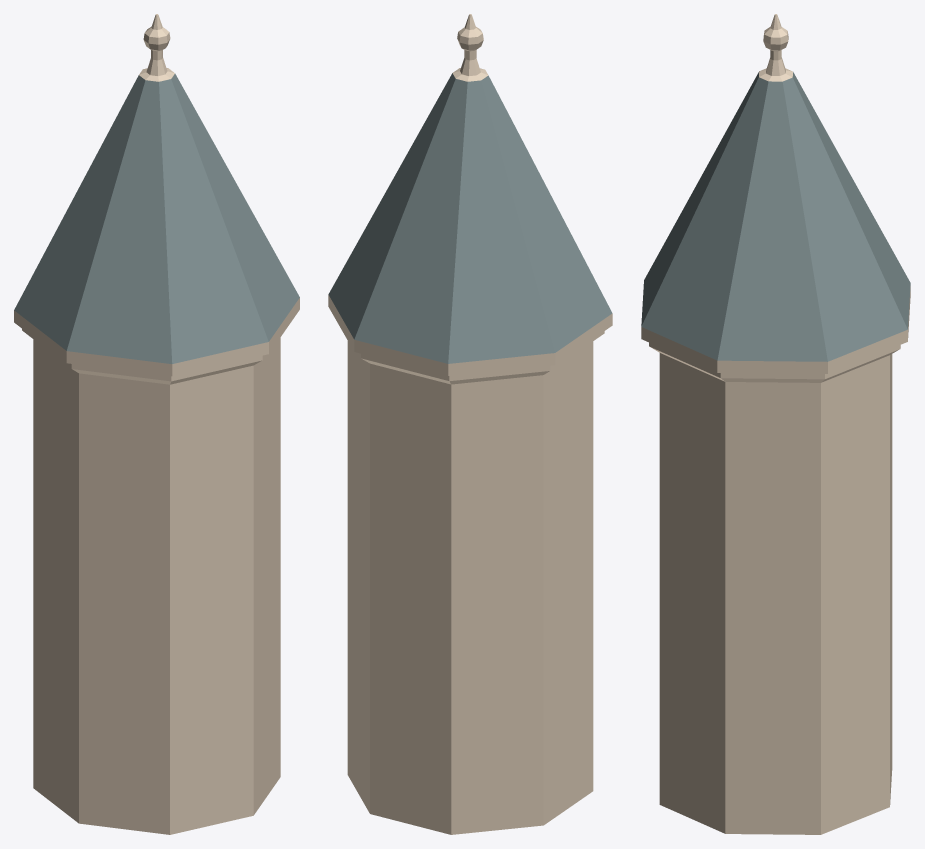
The model's file is BC_TopPillar_A.fbx.
3 views of the same model, side by side, from view 1: azimuth 30°, elevation 25°; view 2: azimuth 150°, elevation 25°; view 3: azimuth 270°, elevation 25° (orthographic).
Parts seen in each view (by area): view 1: BC_TopPillar_A; view 2: BC_TopPillar_A; view 3: BC_TopPillar_A.
Part boxes in pixels (x1,y1,x2,y2): BC_TopPillar_A: [14, 14, 299, 834]; BC_TopPillar_A: [328, 14, 612, 834]; BC_TopPillar_A: [641, 14, 910, 834].
Bounding box in the file's own units: 649 × 2049 × 649.
